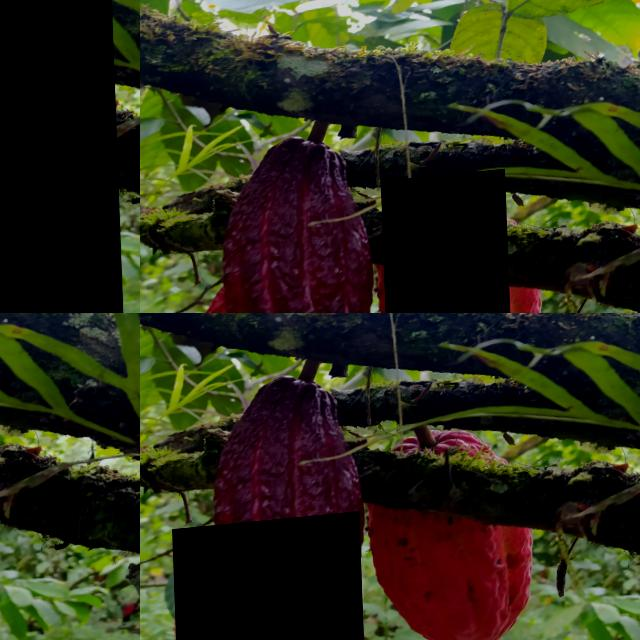Fitoftora: (439, 159, 502, 233)
Monilia: (379, 176, 510, 313)
Sana: (207, 370, 367, 640), (0, 0, 123, 313), (361, 433, 533, 640), (169, 516, 364, 640)
